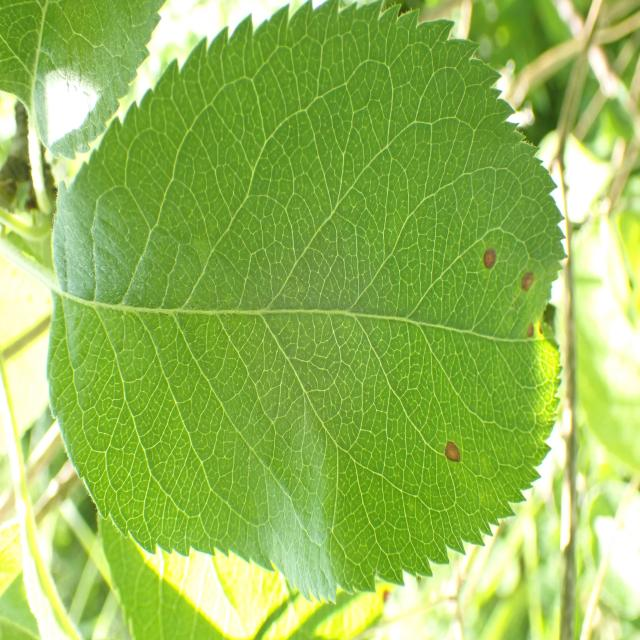Black Rot: (437, 435, 476, 492), (470, 235, 503, 295), (514, 252, 538, 302), (523, 308, 540, 342)
